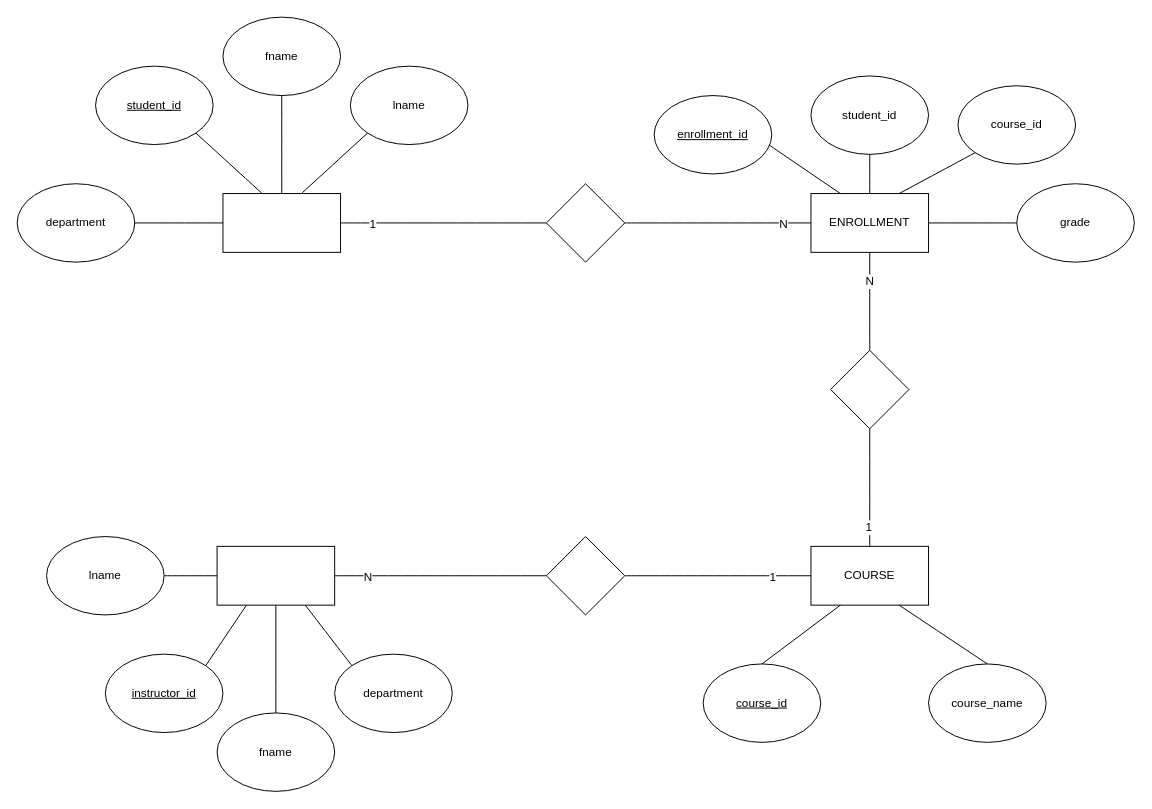
This 1152x809 diagram has some shape labels left out. The shapes that lost their labels are listed below. From the top down, each one's centre as x and y in pixels, then its label:
[281,222]: STUDENT
[585,222]: enrolls
[869,389]: has
[275,575]: INSTRUCTOR
[585,575]: teaches
